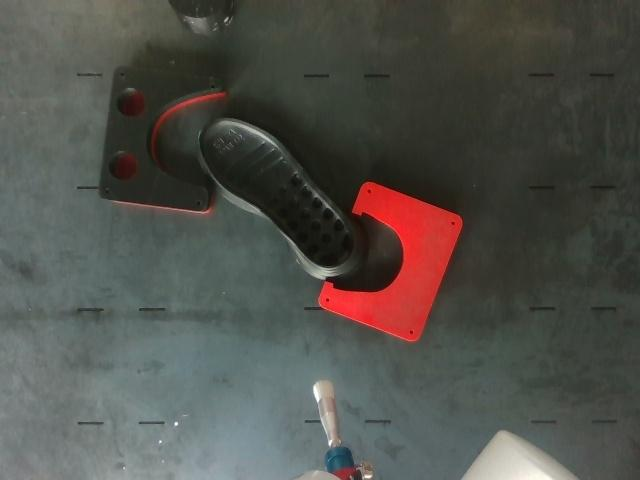shoes: (199, 118, 356, 269)
